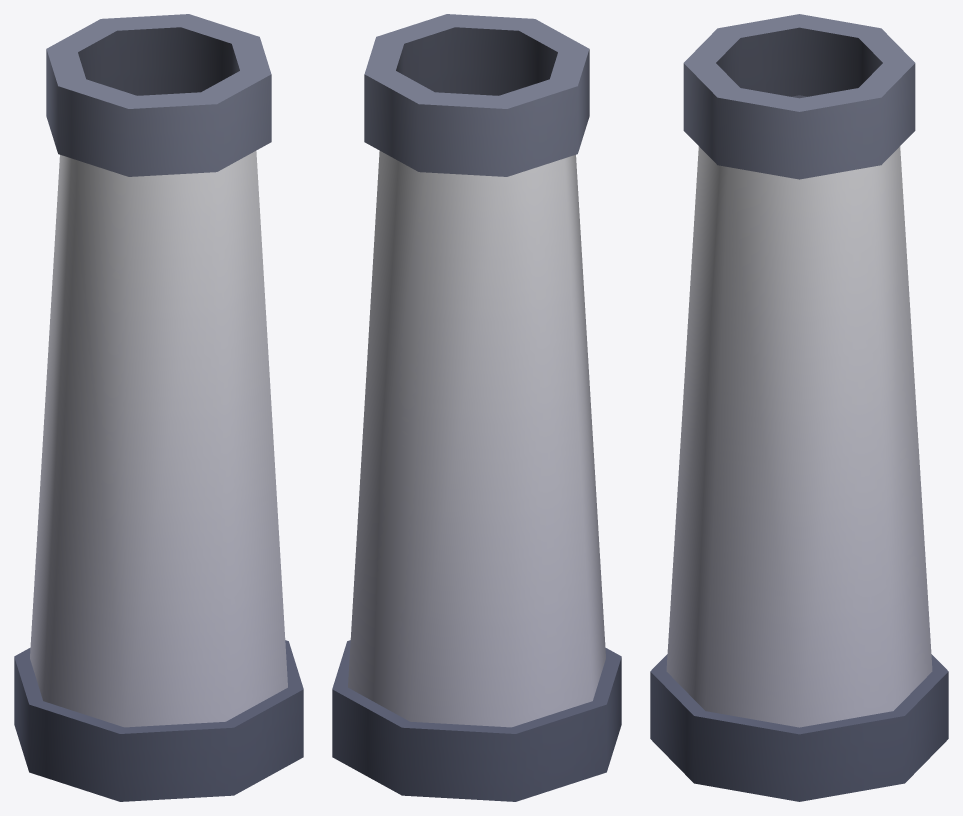
File: chimney_small.glb
The picture shows the model from 3 angles, left to right: view 1: azimuth 30°, elevation 25°; view 2: azimuth 150°, elevation 25°; view 3: azimuth 270°, elevation 25°; orthographic projection.
Visible parts, largest first — view 1: chimney-small; view 2: chimney-small; view 3: chimney-small.
Part boxes in pixels (box(x1,y1,x2,y2)): chimney-small: box(14, 14, 303, 801); chimney-small: box(332, 14, 621, 801); chimney-small: box(650, 14, 948, 801).
Size of the model in its own units: 0.3 by 0.75 by 0.3.
1 material, 1 textured.
